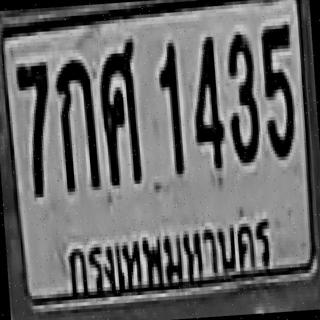A01: (52, 55, 99, 189)
A38: (96, 35, 142, 182)
N01: (154, 41, 182, 173)
N03: (223, 30, 260, 164)
N04: (188, 33, 225, 169)
N05: (258, 22, 298, 159)
N07: (13, 59, 54, 195)
P04: (54, 205, 287, 314)
